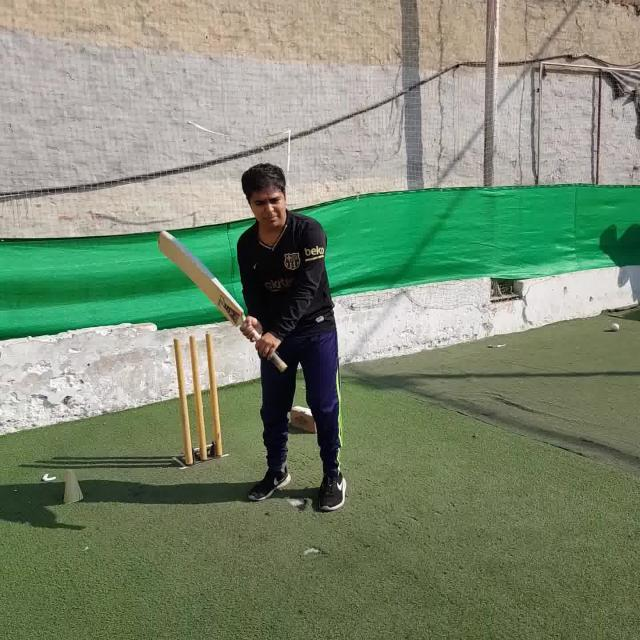ball: (610, 322, 620, 330)
bat: (158, 230, 287, 372)
